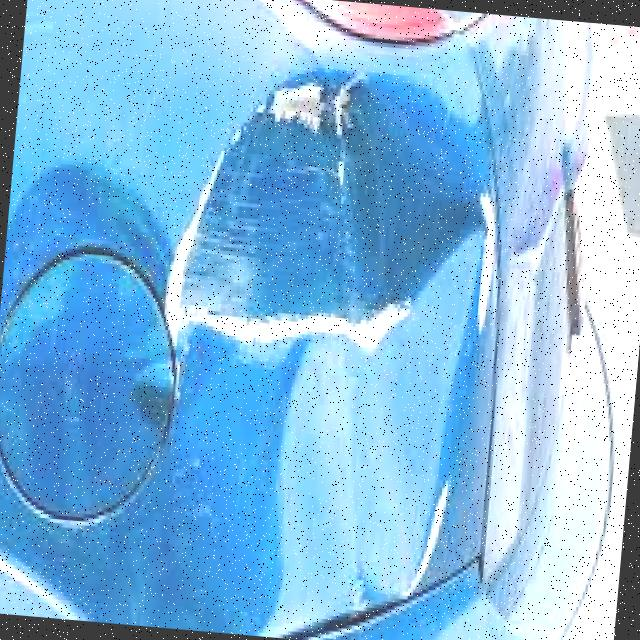Dent: (160, 67, 524, 638)
